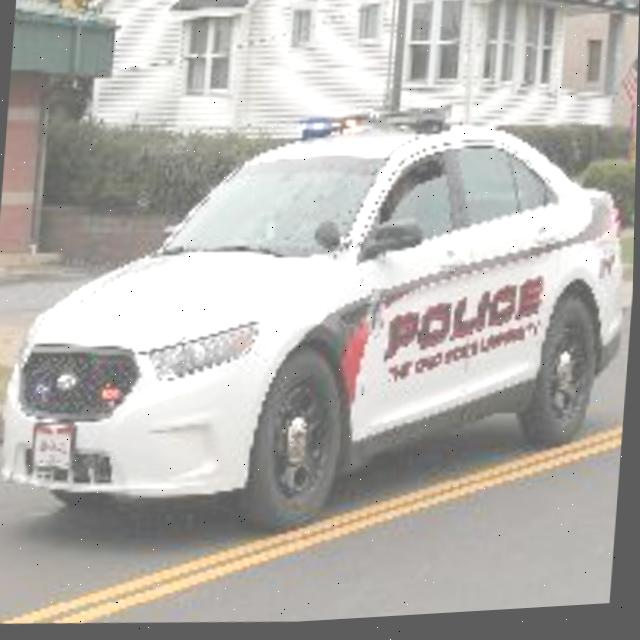emergency: (10, 102, 638, 566)
